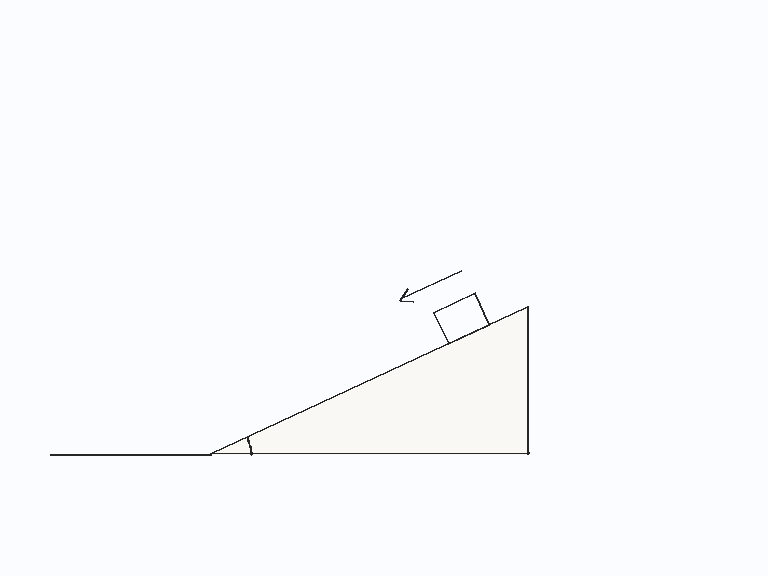block: (431, 291, 492, 346)
ramp: (209, 305, 529, 456)
